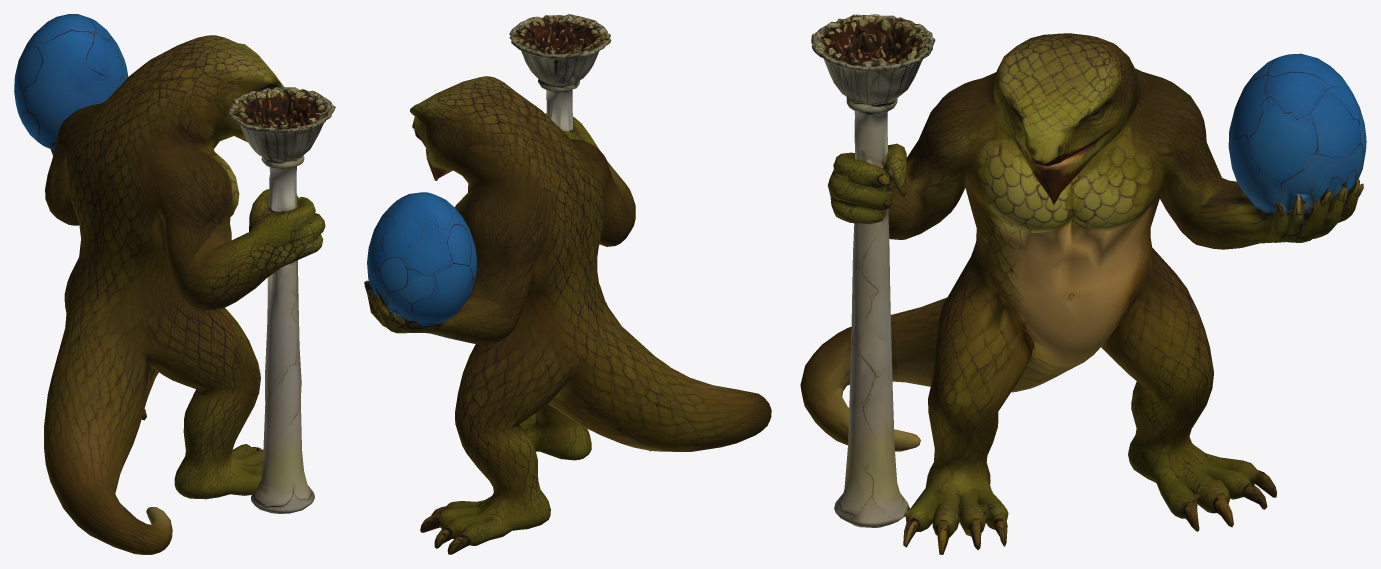
3 views of the same model, side by side, from view 1: azimuth 30°, elevation 25°; view 2: azimuth 150°, elevation 25°; view 3: azimuth 270°, elevation 25° (orthographic). The views are drawn at different scales.
Parts seen in each view (by area): view 1: tripo_node_0dc7565d-4281-44e9-ae78-b528af486db5; view 2: tripo_node_0dc7565d-4281-44e9-ae78-b528af486db5; view 3: tripo_node_0dc7565d-4281-44e9-ae78-b528af486db5.
Boxes of the visible parts, x1,y1,x2,y2 form: tripo_node_0dc7565d-4281-44e9-ae78-b528af486db5: (14, 14, 335, 554); tripo_node_0dc7565d-4281-44e9-ae78-b528af486db5: (364, 14, 771, 554); tripo_node_0dc7565d-4281-44e9-ae78-b528af486db5: (800, 14, 1366, 554).
Size of the model in its own units: 0.7091 by 0.9626 by 0.9997.
1 material, 1 textured.
